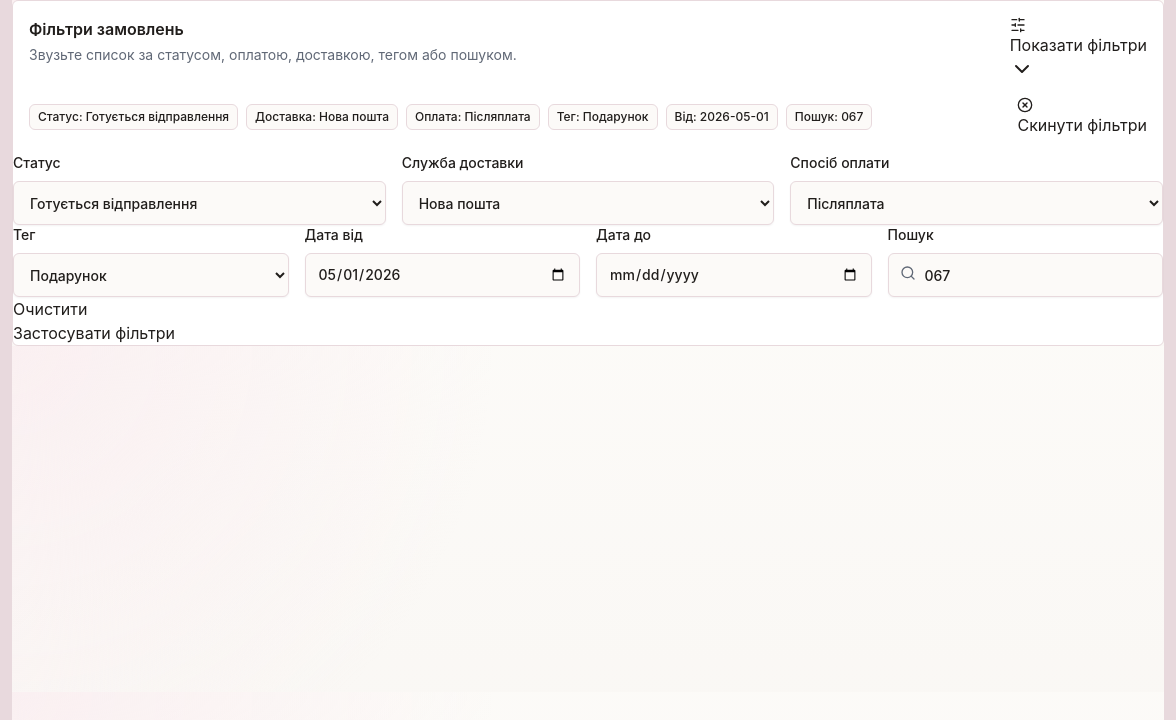
Scenario: owner orders UI › renders a collapsed filter panel with active summary and clear action
Check: the text "Статус: Готується відправлення" is shown, box [29,104,238,130]
Check: the text "Доставка: Нова пошта" is shown, box [246,104,398,130]
Click the button "Показати фільтри": (1078, 49) [1010,17,1147,81]
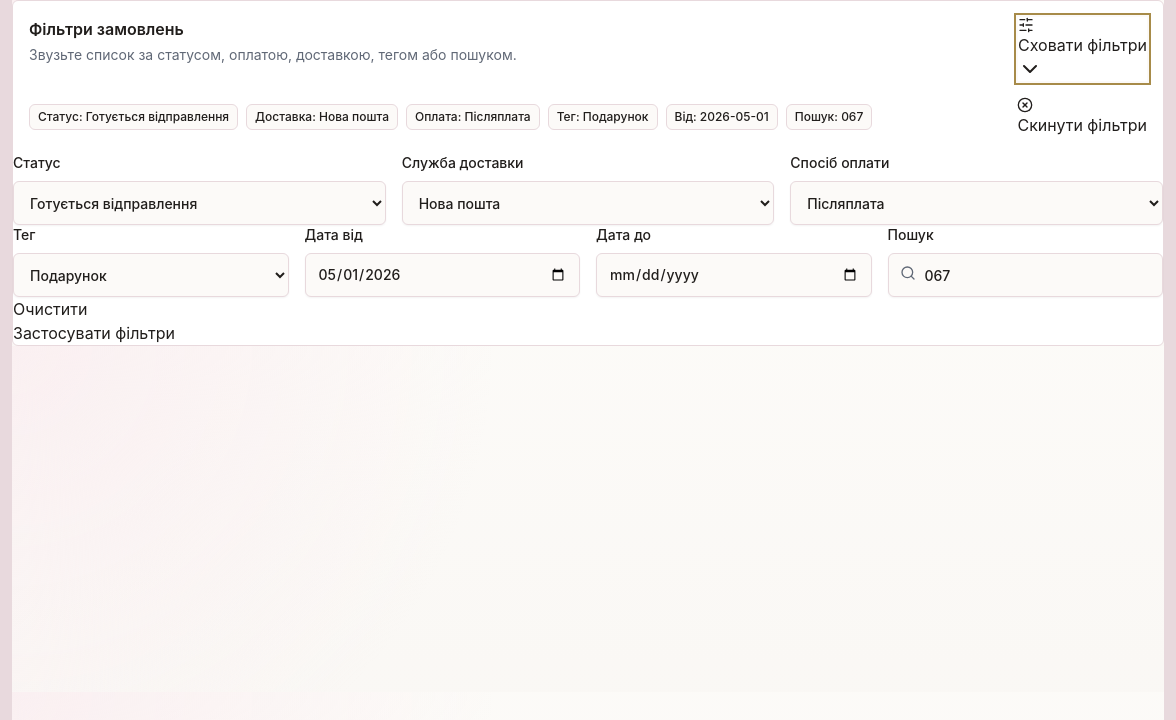
Check: the dropdown labelled "Статус" is shown, box [13,181,386,225]
Check: the button named "Показати фільтри" is expanded, box [1018,17,1147,81]
